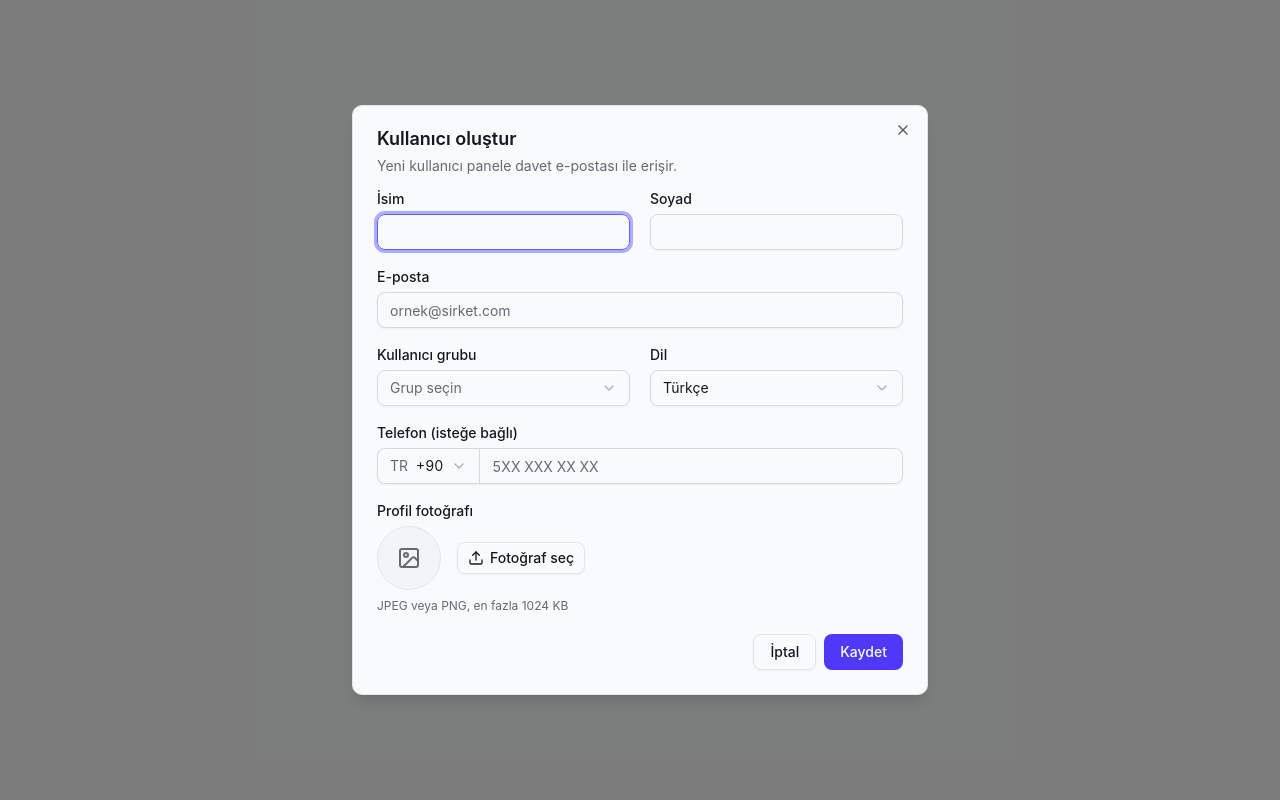
Test: CreateUserDialog › explains what is missing and creates nothing when saved empty
The image size is (1280, 800).
Click the button "Kaydet".
click(864, 652)  # box [824, 634, 903, 670]
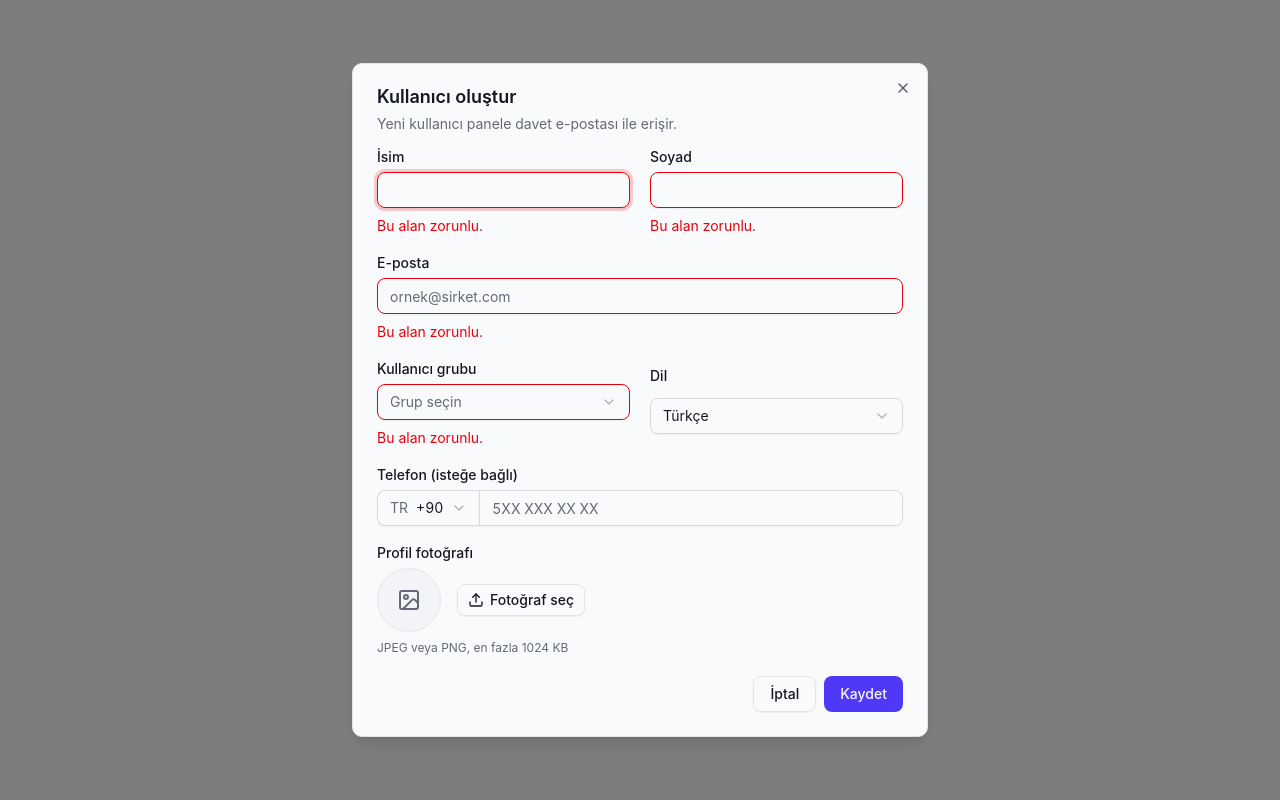
Result: the text "Bu alan zorunlu." is shown 4 times at [377, 217, 483, 234]; [650, 217, 756, 234]; [377, 323, 483, 340]; [377, 429, 483, 446]
